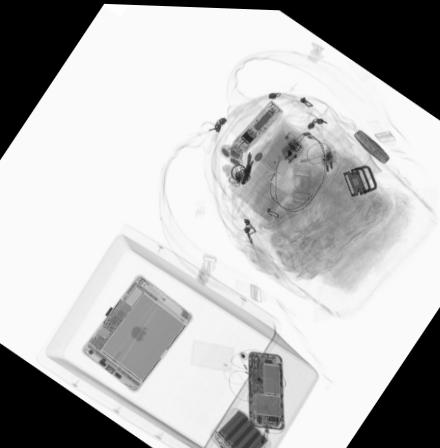Powerbank: (206, 402, 273, 448)
